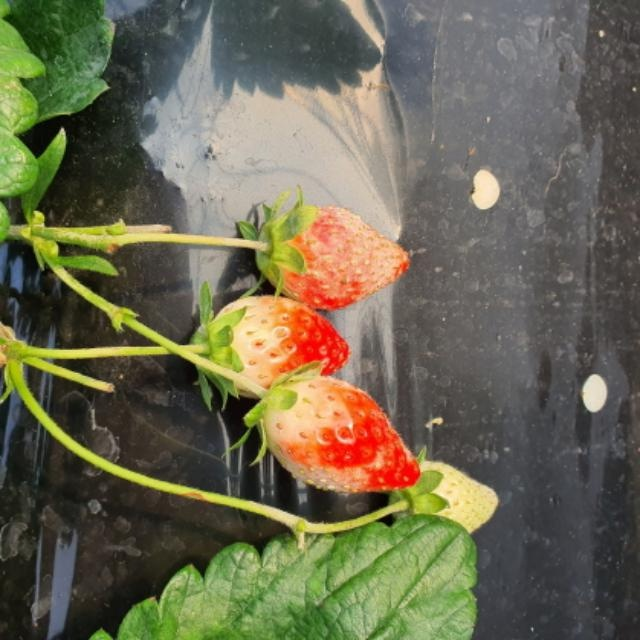Powdery Mildew Fruit: (259, 375, 421, 494), (253, 204, 412, 311)
